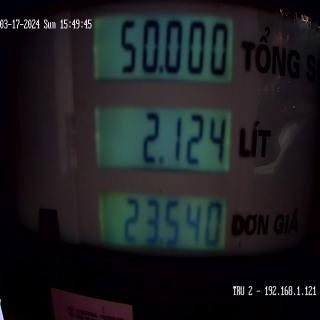screen: (89, 3, 239, 287)
